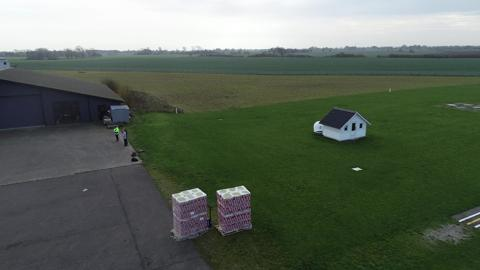RockwoolPallet: (171, 187, 206, 238)
